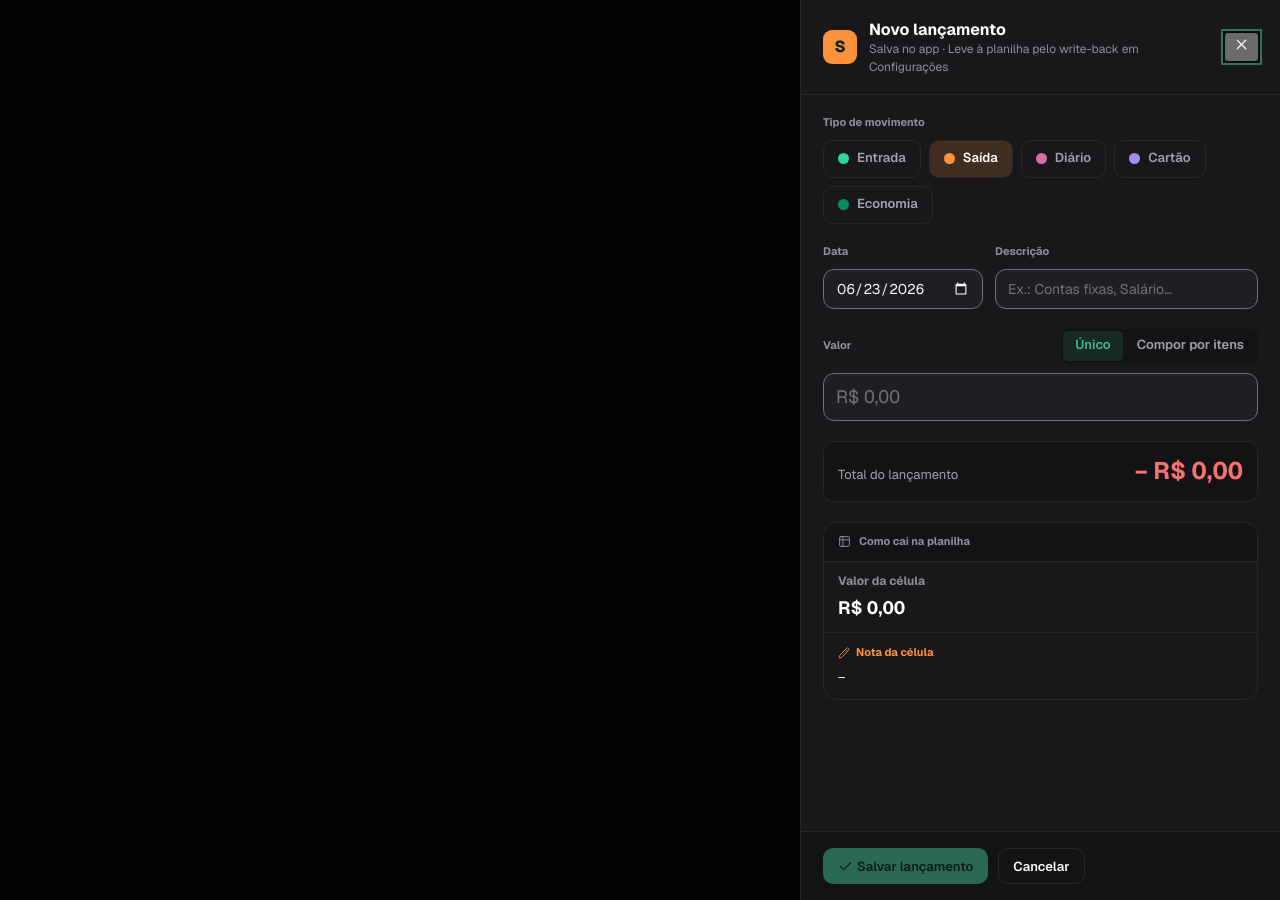
Compose › falha ao salvar mostra erro e não fecha o drawer
Type "10,00" into the field named "Valor único" at (1040, 397), box top-left (823, 373), bottom-right (1258, 421)
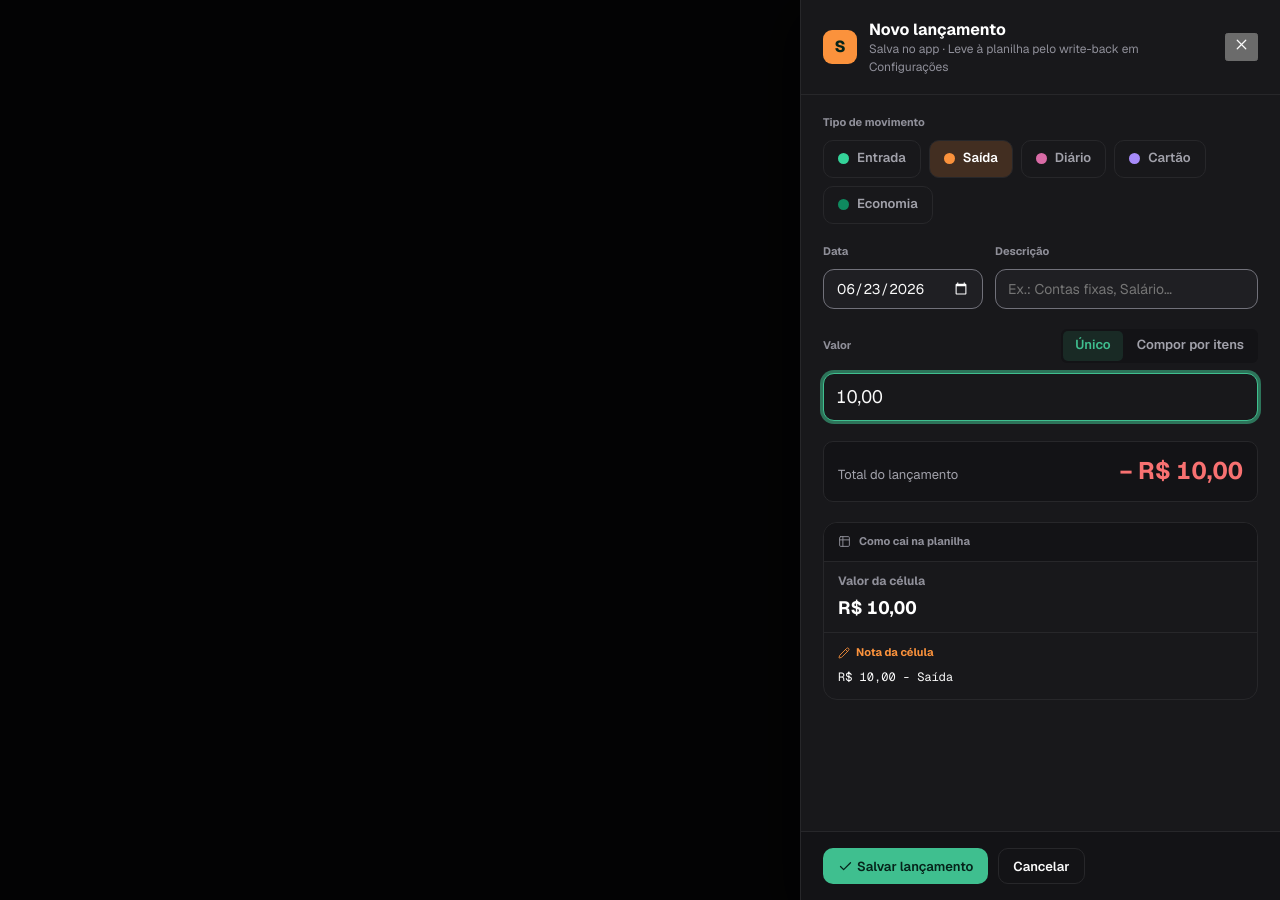
Click the button "Salvar lançamento" at (906, 866), box top-left (823, 848), bottom-right (988, 884)
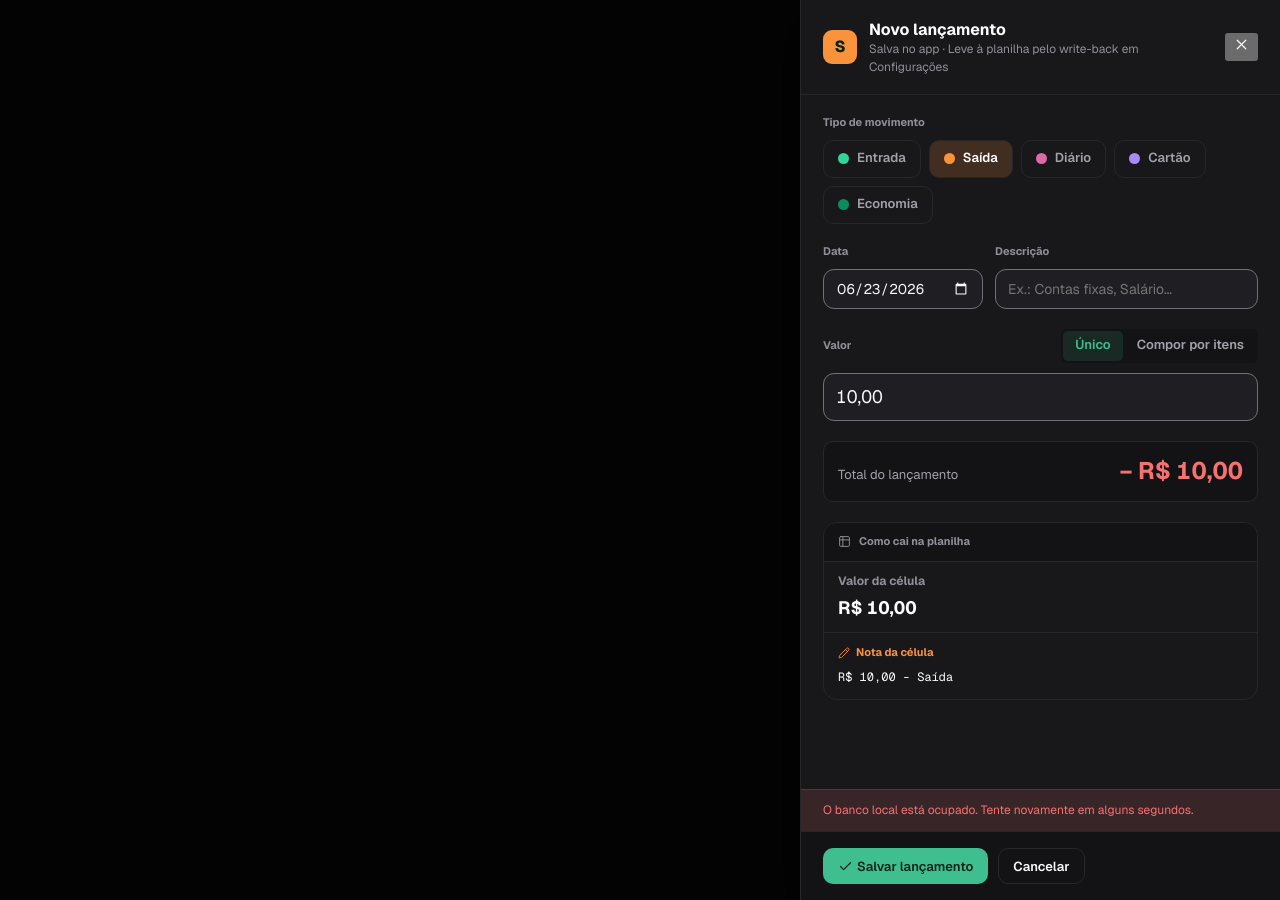
expect the message shows "ocupado": met, box top-left (823, 802), bottom-right (1194, 818)
